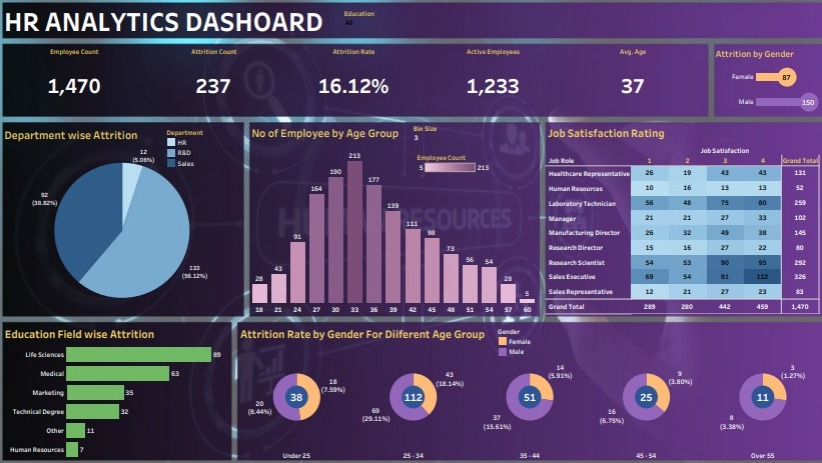

The page's visual inventory and layout, read from the dashboard file:
{"tool":"tableau","page":{"name":"HR  ANALYTIC DASHBOARD","canvas":[1580,900],"ordinal":0},"visuals":[{"type":"image","param":"C:/Users/Prajwal/Downloads/HR background.pptx (1).png","box":[8,8,1564,884]},{"type":"text","box":[19,18,617,69]},{"type":"filter","title":"KPI","param":"[federated.1lp46691so31e218nnozd13yaw3c].[none:Education:nk]","box":[661,29,160,53]},{"type":"worksheet","title":"Attrition by Gender","mark":"Automatic","rows":["Gender"],"cols":["Calculation_273875153259102208","Calculation_273875153259102208"],"box":[1356,98,202,131]},{"type":"worksheet","title":"KPI","mark":"Automatic","box":[22,100,1314,127]},{"type":"worksheet","title":"No of Employee by Age Group","mark":"Automatic","rows":["Employee Count"],"cols":["Age (bin)"],"box":[483,244,541,361]},{"type":"worksheet","title":"Job Satisfaction Rating","mark":"Square","rows":["Job Role"],"cols":["Job Satisfaction"],"box":[1040,244,516,362]},{"type":"worksheet","title":"Department wise Attrition","mark":"Pie","box":[18,247,450,358]},{"type":"parameter","param":"[Parameters].[Age Parameter]","box":[791,247,191,60]},{"type":"legend","title":"Department wise Attrition","param":"[federated.1lp46691so31e218nnozd13yaw3c].[none:Department:nk]","box":[326,253,140,78]},{"type":"legend","title":"No of Employee by Age Group","param":"[federated.1lp46691so31e218nnozd13yaw3c].[sum:Employee Count:qk]","box":[798,298,140,76]},{"type":"worksheet","title":"Education Field wise Attrition","mark":"Automatic","rows":["Education Field"],"cols":["Calculation_273875153259102208"],"box":[19,622,429,256]},{"type":"worksheet","title":"Attrition Rate by Gender For Diiferent Age Group","mark":"Pie","rows":["Calculation_273875153297891332","Calculation_273875153297891332"],"cols":["CF_age band"],"box":[462,622,1096,258]},{"type":"legend","title":"Attrition Rate by Gender For Diiferent Age Group","param":"[federated.1lp46691so31e218nnozd13yaw3c].[none:Gender:nk]","box":[949,628,140,58]}]}

Visuals, with their boxes in screenshot pixels (x1, y1, x2, y2), scaled from the page's 1580x900 canvas onto the 822x463 screenshot:
image: x1=4, y1=4, x2=818, y2=459
text: x1=10, y1=9, x2=331, y2=45
"KPI" filter: x1=344, y1=15, x2=427, y2=42
"Attrition by Gender" worksheet: x1=705, y1=50, x2=811, y2=118
"KPI" worksheet: x1=11, y1=51, x2=695, y2=117
"No of Employee by Age Group" worksheet: x1=251, y1=126, x2=533, y2=311
"Job Satisfaction Rating" worksheet (Square marks): x1=541, y1=126, x2=810, y2=312
"Department wise Attrition" worksheet (Pie marks): x1=9, y1=127, x2=243, y2=311
parameter: x1=412, y1=127, x2=511, y2=158
"Department wise Attrition" legend: x1=170, y1=130, x2=242, y2=170
"No of Employee by Age Group" legend: x1=415, y1=153, x2=488, y2=192
"Education Field wise Attrition" worksheet: x1=10, y1=320, x2=233, y2=452
"Attrition Rate by Gender For Diiferent Age Group" worksheet (Pie marks): x1=240, y1=320, x2=811, y2=453
"Attrition Rate by Gender For Diiferent Age Group" legend: x1=494, y1=323, x2=567, y2=353
